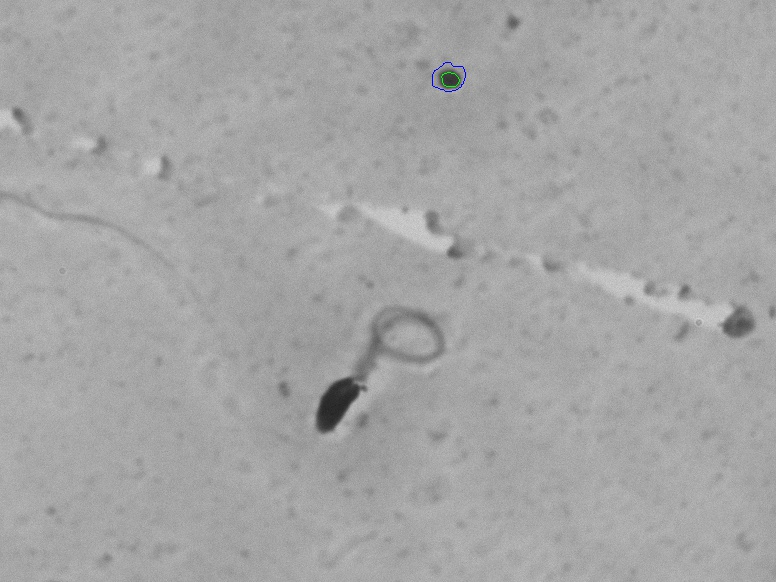Abnormal: (281, 280, 488, 476)
